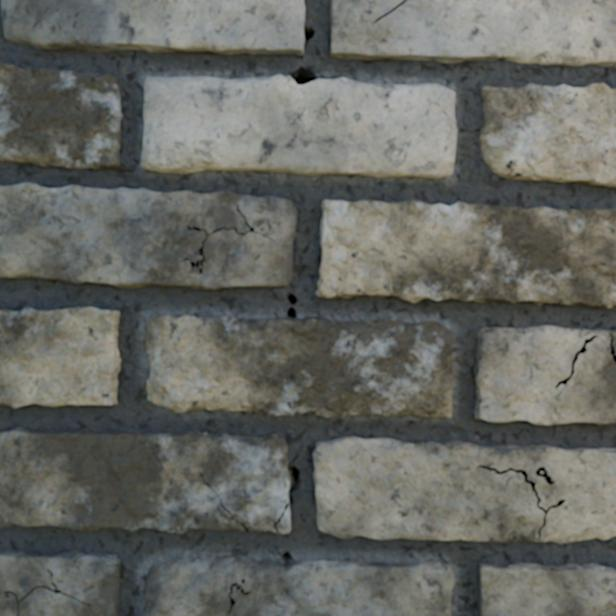brick: (316, 200, 615, 307), (313, 437, 615, 542), (0, 183, 296, 289), (0, 428, 288, 532), (330, 0, 615, 65), (1, 0, 304, 53), (474, 326, 615, 424), (480, 84, 615, 186), (0, 62, 121, 168), (0, 307, 120, 407), (0, 550, 119, 615), (478, 563, 615, 615), (277, 509, 290, 532)
broken_brick: (140, 74, 457, 178), (144, 313, 453, 417), (142, 554, 455, 615)
crack: (477, 464, 566, 540), (2, 568, 92, 615), (198, 471, 248, 531), (273, 466, 300, 540), (226, 575, 252, 615), (289, 65, 317, 85), (286, 292, 298, 319), (281, 551, 292, 571), (609, 333, 615, 362), (303, 26, 315, 40), (296, 54, 302, 58), (292, 179, 295, 184)
